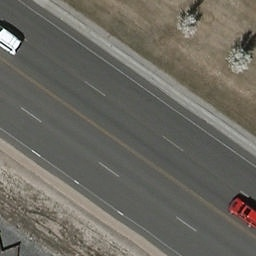car: (0, 19, 23, 55)
